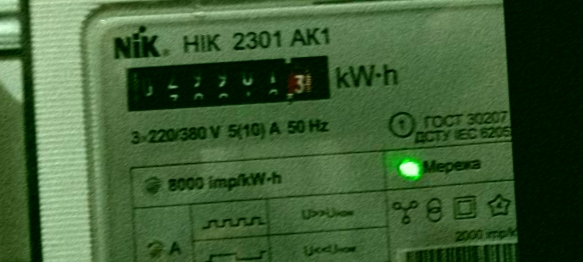0: (239, 63, 255, 89), (139, 76, 156, 98)
1: (264, 62, 279, 86)
2: (164, 71, 181, 91)
3: (292, 72, 306, 94)
9: (214, 66, 230, 89), (189, 68, 203, 91)
screen: (112, 45, 342, 122)
